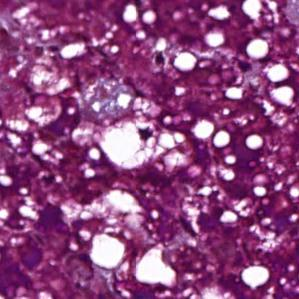ballooning: (95, 115, 189, 172)
